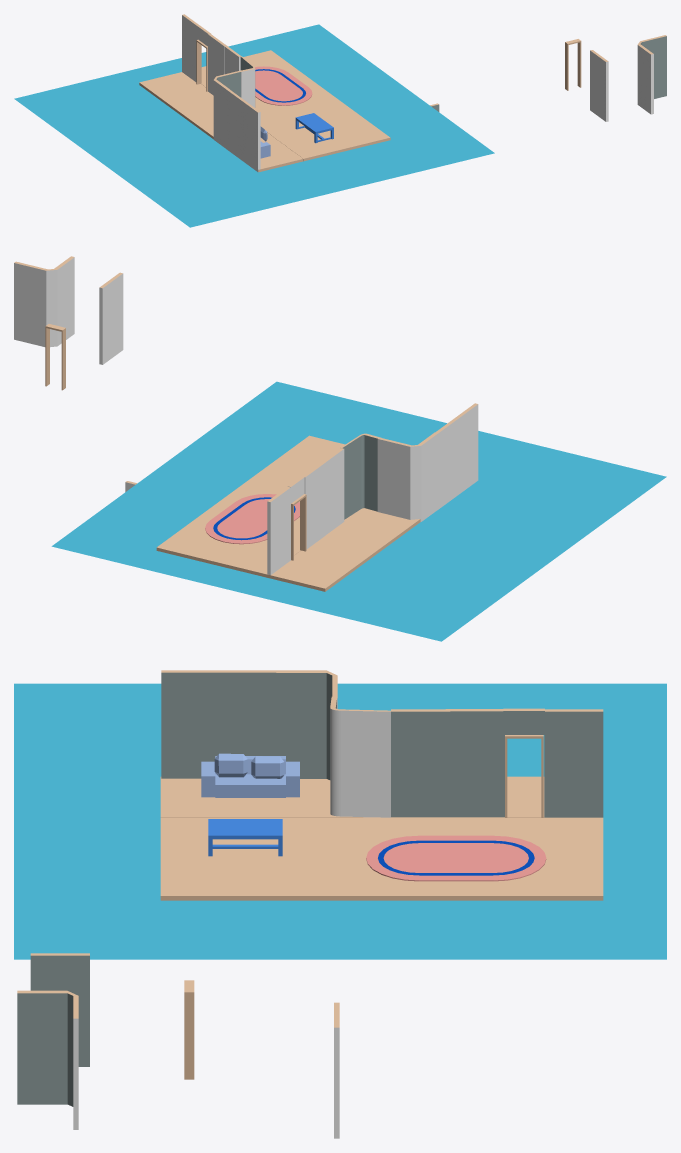
The model's file is livingroom.fbx.
3 views of the same model, one above another, from view 1: azimuth 30°, elevation 25°; view 2: azimuth 150°, elevation 25°; view 3: azimuth 270°, elevation 25° (orthographic). The views are drawn at different scales.
Visible parts, largest first — view 1: Plane.001, floorFull.001, floorFull.002, wallCorner.001, rugRounded, wallCorner, wall.002, wall.003, wall.001, wall.007, wall.005, table (+4 smaller); view 2: Plane.001, floorFull.001, floorFull.002, wallCorner, wallCorner.001, wallCornerRond, rugRounded, wall.002, wall.007, wall.001, wall.003, wall.005 (+3 smaller); view 3: Plane.001, floorFull.001, rugRounded, wallCorner.001, wallCornerRond, wall.007, wall.004, floorFull.002, wall.003, wall.005, wallCorner, wall.001 (+8 smaller).
Part boxes in pixels (x1,y1,x2,y2): Plane.001: (14,24,494,227); floorFull.001: (201,50,390,161); floorFull.002: (139,72,303,172); wallCorner.001: (637,35,666,114); rugRounded: (255,66,312,105); wallCorner: (213,70,242,148); wall.002: (590,50,608,121); wall.003: (242,100,260,171); wall.001: (226,89,244,160); wall.007: (182,14,199,81); wall.005: (208,34,226,95); table: (295,113,333,143); Plane.001: (51,381,666,641); floorFull.001: (156,435,344,577); floorFull.002: (268,508,420,591); wallCorner: (377,432,437,521); wallCorner.001: (14,256,74,347); wallCornerRond: (340,433,381,519); rugRounded: (205,494,299,544); wall.002: (99,272,123,364); wall.007: (267,486,290,575); wall.001: (435,418,458,509); wall.003: (455,403,478,494); wall.005: (303,462,325,548); Plane.001: (14,683,666,959); floorFull.001: (160,817,603,900); rugRounded: (366,835,546,881); wallCorner.001: (17,990,78,1129); wallCornerRond: (330,696,390,817); wall.007: (544,709,603,817); wall.004: (391,709,450,817); floorFull.002: (160,776,544,817); wall.003: (161,670,220,778); wall.005: (445,709,504,817); wallCorner: (276,670,337,779); wall.001: (219,670,278,755).
Bounding box in the file's own units: 598 × 164 × 370.
